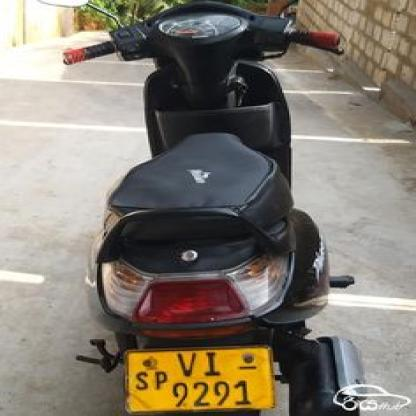bike back: (26, 0, 375, 414)
number plate: (124, 348, 262, 410)
